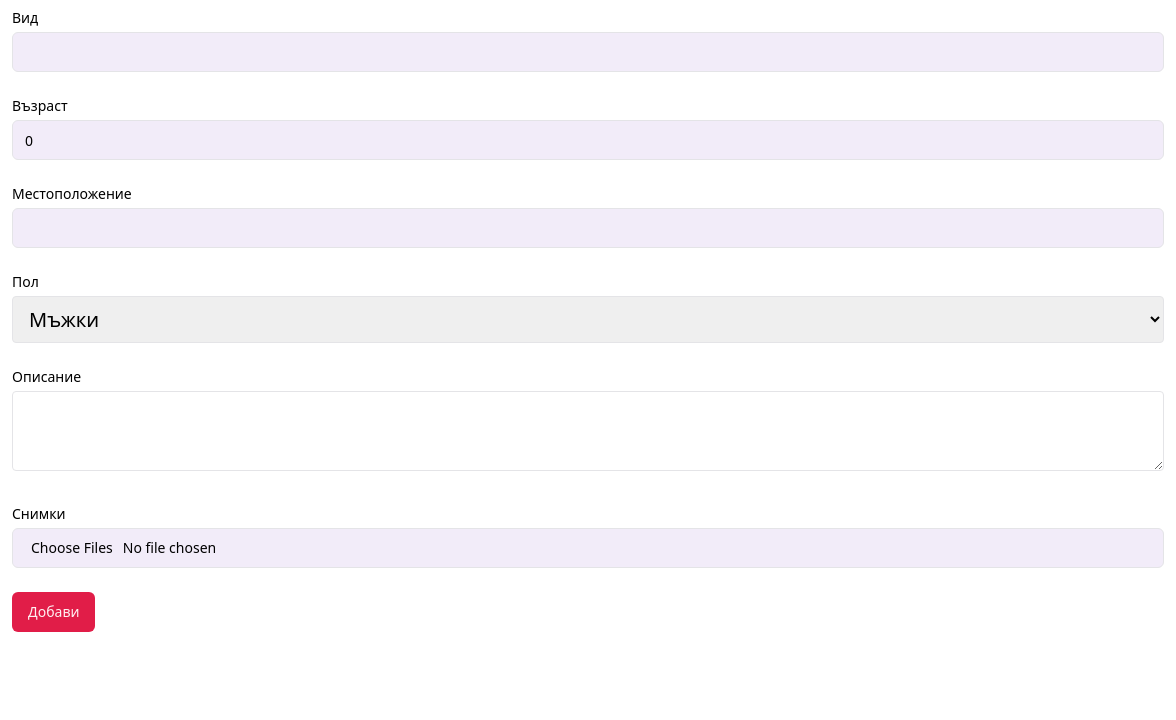
Test case: AddAnimalForm › validates required fields on submit
The width and height of the screenshot is (1176, 720).
Step 1. Click the button "Добави" → (54, 612), box [12,592,96,632]
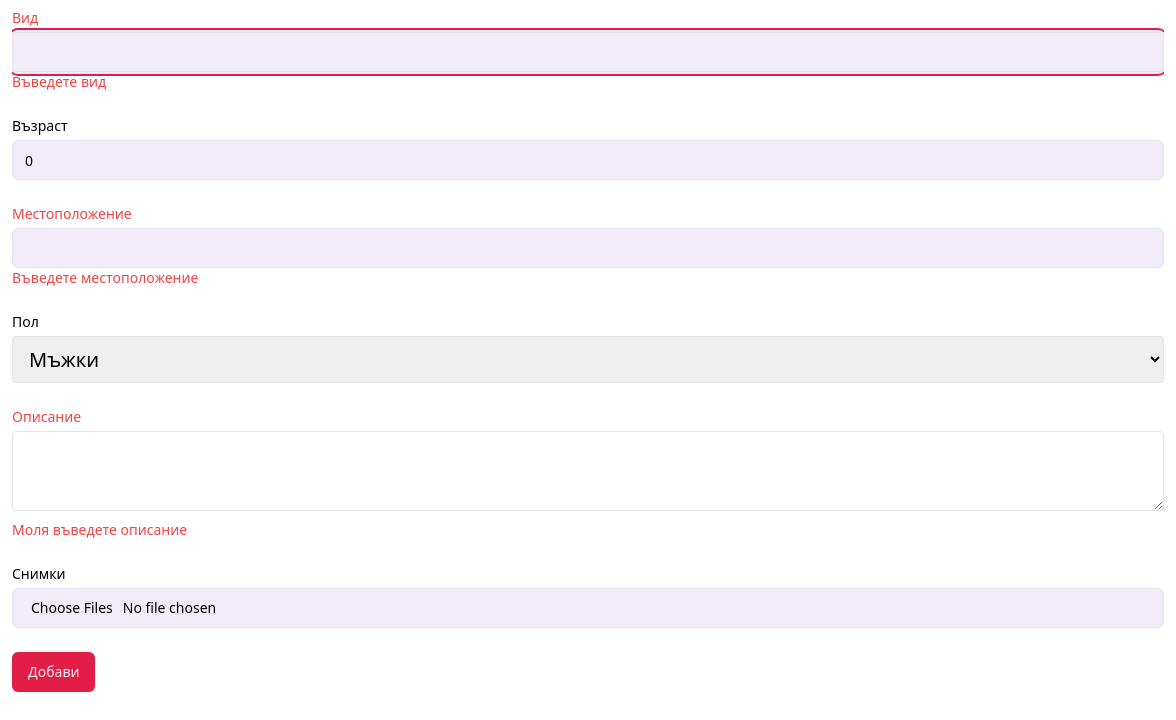
expect the text "Въведете вид" is shown: met, box [12,72,106,91]
expect the text "Въведете местоположение" is shown: met, box [12,268,198,287]
expect the text "Моля въведете описание" is shown: met, box [12,520,187,539]
